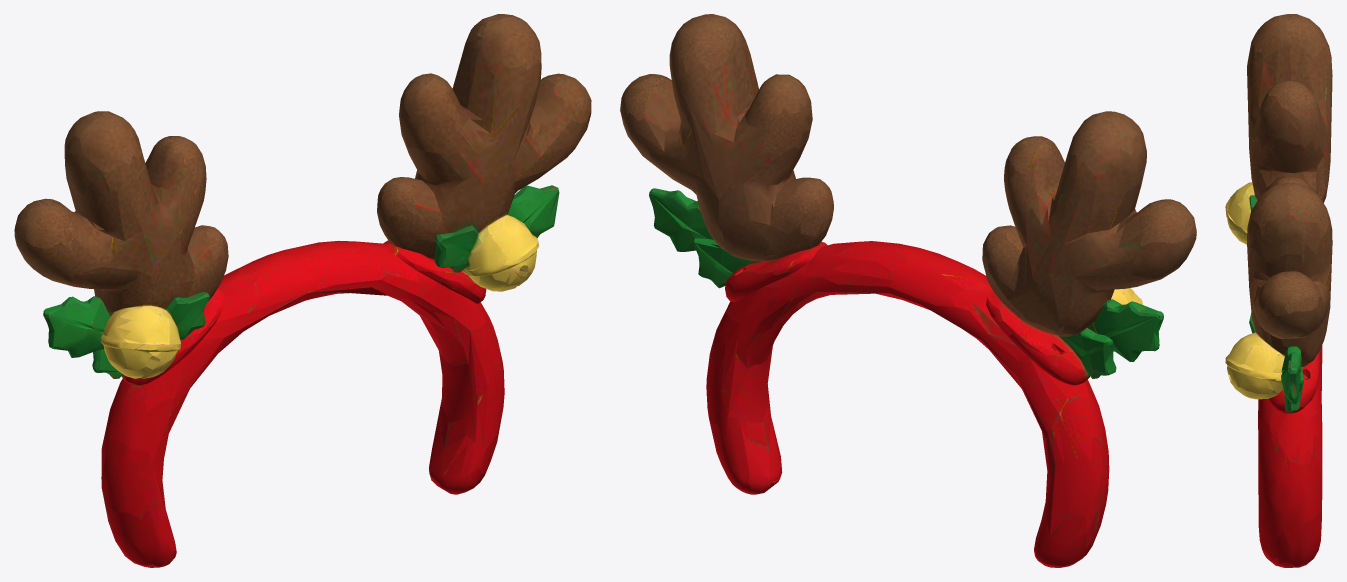
File: hat-gevir.glb
3 renders of one model, left to right at view 1: azimuth 30°, elevation 25°; view 2: azimuth 150°, elevation 25°; view 3: azimuth 270°, elevation 25°, orthographic. The views are drawn at different scales.
Bounding box in the file's own units: 1.9 × 1.47 × 0.3576.
1 material, 1 textured.
